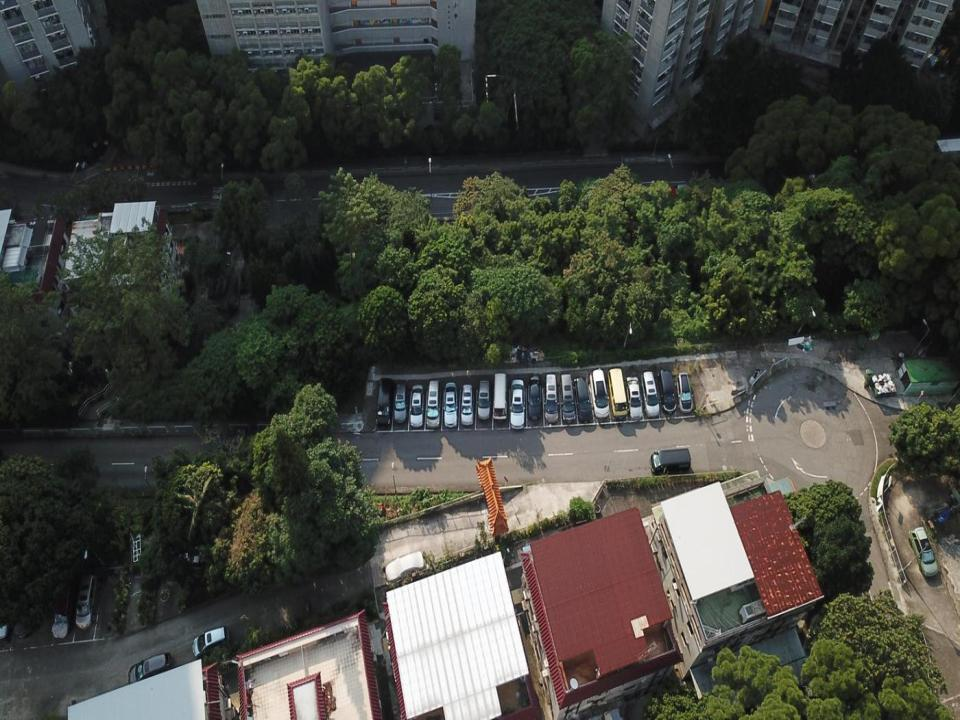car: (127, 650, 173, 689), (908, 526, 939, 578), (192, 624, 230, 659), (52, 579, 74, 639), (588, 369, 610, 420), (640, 370, 660, 419), (573, 376, 593, 424), (657, 367, 677, 414), (424, 379, 442, 429), (509, 378, 526, 430), (625, 376, 644, 421), (674, 373, 694, 413), (560, 374, 576, 423), (443, 381, 459, 429), (544, 373, 559, 424), (408, 383, 424, 429), (12, 604, 31, 640), (527, 376, 542, 421), (393, 382, 409, 424), (476, 378, 492, 420), (460, 384, 475, 426)
van: (75, 570, 101, 631), (649, 448, 692, 475), (607, 368, 628, 419), (375, 376, 395, 427), (492, 373, 508, 422)
